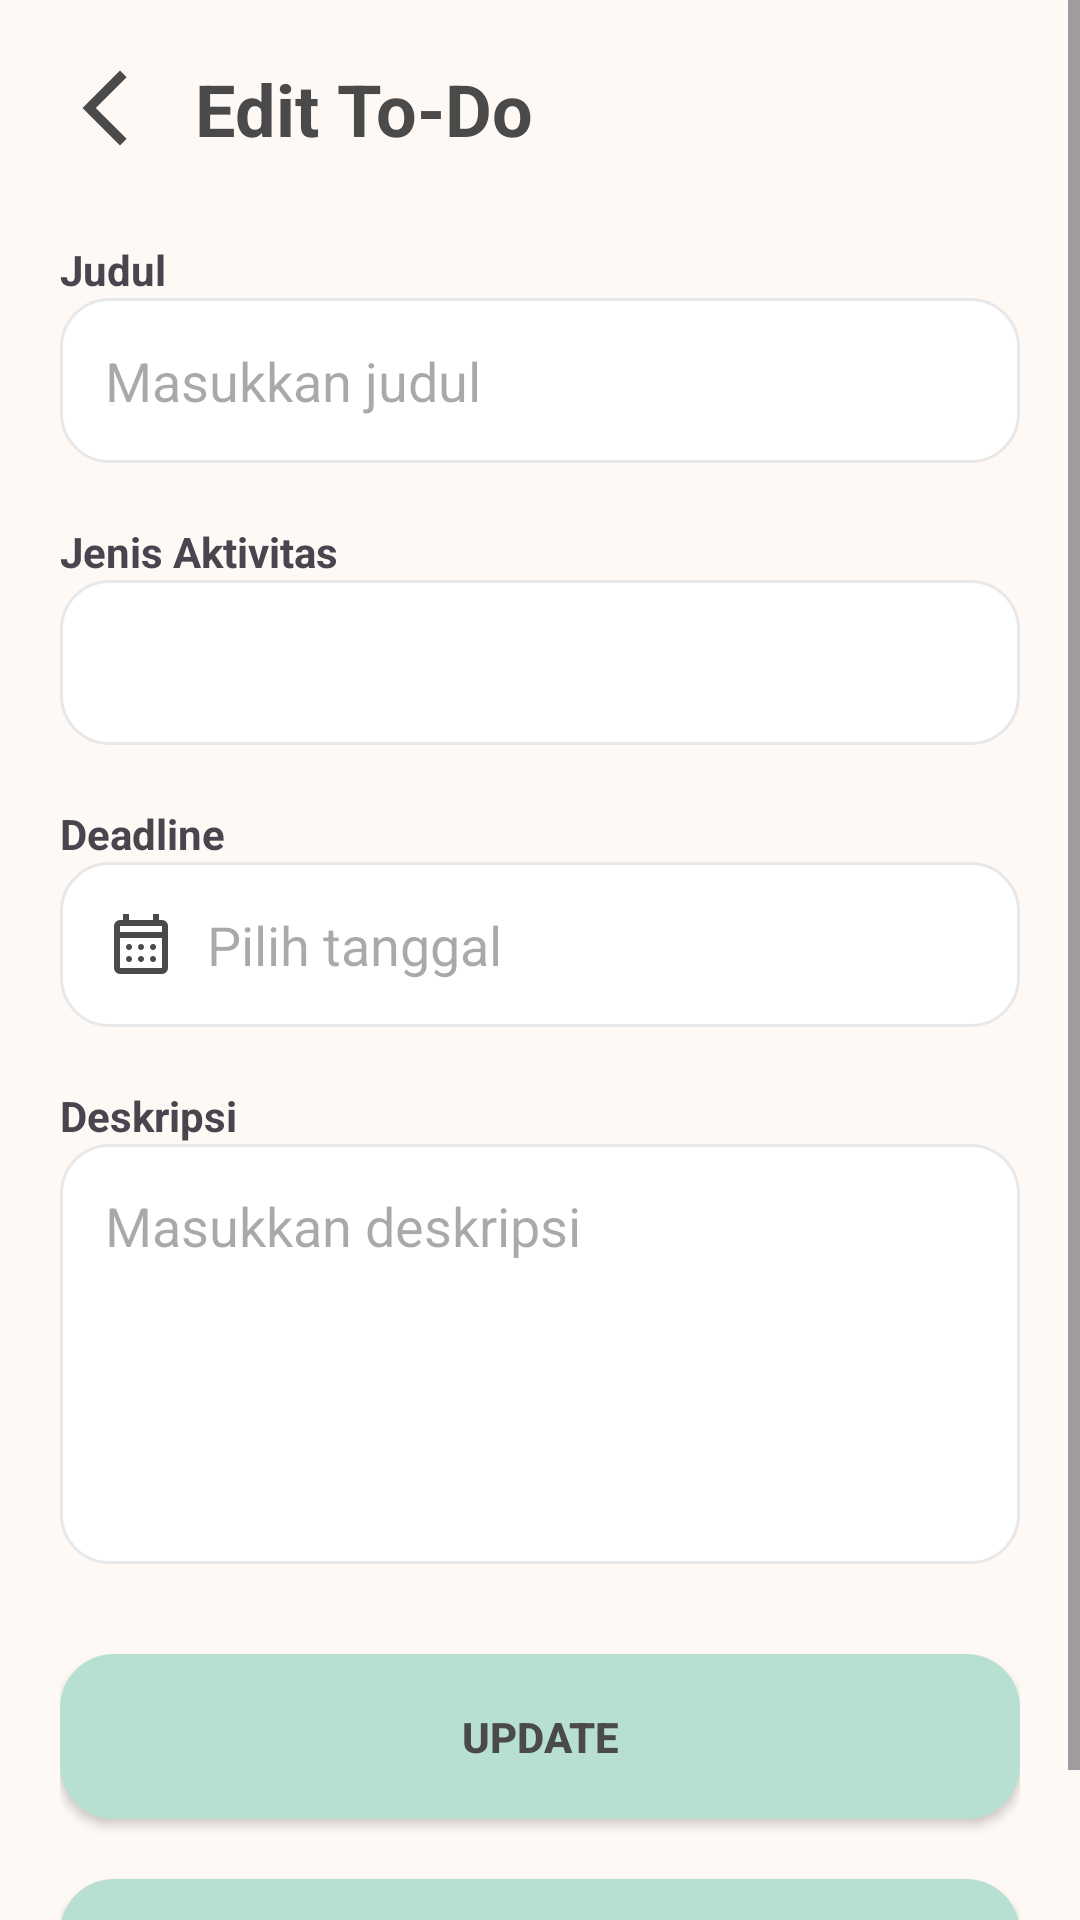

Icon bounding boxes for this 1080×1920 phone screenshot, format box=[x1, y1, x2, y2]:
back: box=[83, 71, 127, 145]
